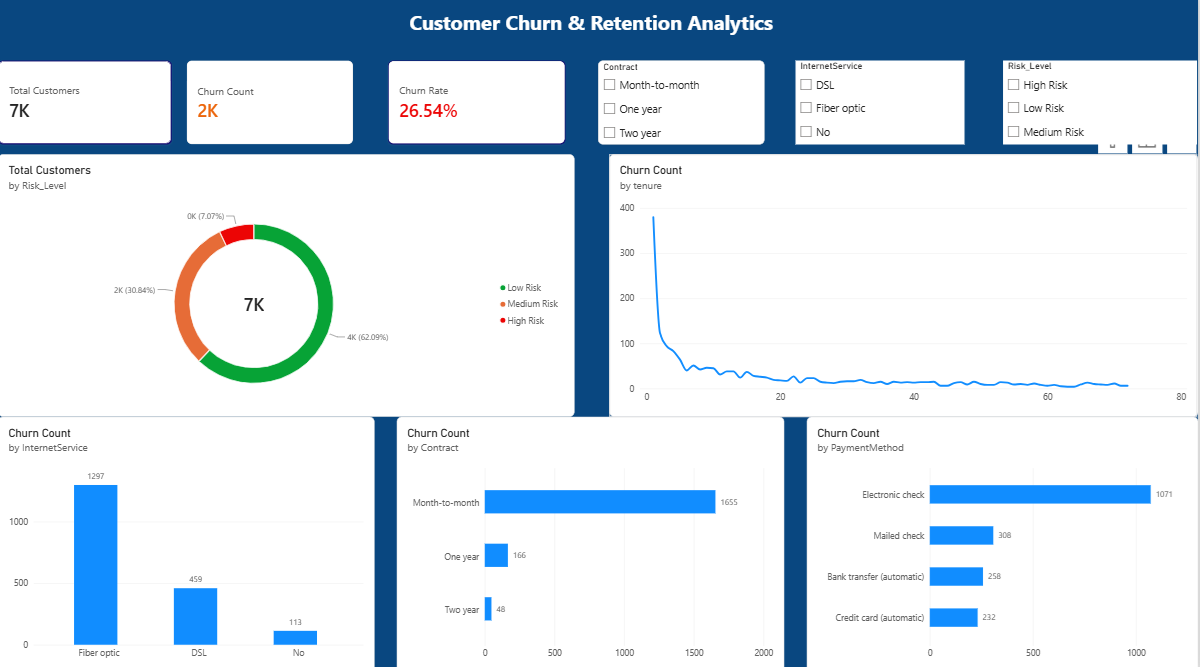

The dashboard page shown, as its layout file describes it:
{"tool":"powerbi","page":{"name":"Page 1","canvas":[1920,1080],"ordinal":0},"visuals":[{"type":"cardVisual","fields":{"Data":["telco_churn_powerbi_ready.Total Customers"]},"box":[0,100,278,134],"z":0},{"type":"cardVisual","fields":{"Data":["telco_churn_powerbi_ready.Churn Count"]},"box":[302,100,266,134],"z":1},{"type":"cardVisual","fields":{"Data":["telco_churn_powerbi_ready.Churn Rate"]},"box":[624,100,284,134],"z":2},{"type":"donutChart","fields":{"Category":["telco_churn_powerbi_ready.Risk_Level"],"Y":["telco_churn_powerbi_ready.Total Customers"]},"box":[0,250,922,420],"z":3},{"type":"clusteredBarChart","fields":{"Category":["telco_churn_powerbi_ready.Contract"],"Y":["telco_churn_powerbi_ready.Churn Count"]},"box":[638,670,620,410],"z":4},{"type":"clusteredColumnChart","fields":{"Category":["telco_churn_powerbi_ready.InternetService"],"Y":["telco_churn_powerbi_ready.Churn Count"]},"box":[0,670,602,410],"z":5},{"type":"lineChart","fields":{"Category":["telco_churn_powerbi_ready.tenure"],"Y":["telco_churn_powerbi_ready.Churn Count"]},"box":[978,250,942,420],"z":6},{"type":"clusteredBarChart","fields":{"Category":["telco_churn_powerbi_ready.PaymentMethod"],"Y":["telco_churn_powerbi_ready.Churn Count"]},"box":[1294,670,626,410],"z":7},{"type":"slicer","fields":{"Values":["telco_churn_powerbi_ready.Contract"]},"box":[960,100,266,134],"z":8},{"type":"slicer","fields":{"Values":["telco_churn_powerbi_ready.InternetService"]},"box":[1276,100,270,134],"z":9},{"type":"slicer","fields":{"Values":["telco_churn_powerbi_ready.Risk_Level"]},"box":[1608,100,310,134],"z":10},{"type":"textbox","box":[100,16,1698,68],"z":11}]}

Visuals, with their boxes in screenshot pixels (x1, y1, x2, y2), scaled from the page's 1920x1080 canvas onto the 1200x667 screenshot:
cardVisual - telco_churn_powerbi_ready.Total Customers: (x1=0, y1=62, x2=174, y2=145)
cardVisual - telco_churn_powerbi_ready.Churn Count: (x1=189, y1=62, x2=355, y2=145)
cardVisual - telco_churn_powerbi_ready.Churn Rate: (x1=390, y1=62, x2=568, y2=145)
donutChart - telco_churn_powerbi_ready.Risk_Level x telco_churn_powerbi_ready.Total Customers: (x1=0, y1=154, x2=576, y2=414)
clusteredBarChart - telco_churn_powerbi_ready.Contract x telco_churn_powerbi_ready.Churn Count: (x1=399, y1=414, x2=786, y2=666)
clusteredColumnChart - telco_churn_powerbi_ready.InternetService x telco_churn_powerbi_ready.Churn Count: (x1=0, y1=414, x2=376, y2=666)
lineChart - telco_churn_powerbi_ready.tenure x telco_churn_powerbi_ready.Churn Count: (x1=611, y1=154, x2=1199, y2=414)
clusteredBarChart - telco_churn_powerbi_ready.PaymentMethod x telco_churn_powerbi_ready.Churn Count: (x1=809, y1=414, x2=1199, y2=666)
slicer - telco_churn_powerbi_ready.Contract: (x1=600, y1=62, x2=766, y2=145)
slicer - telco_churn_powerbi_ready.InternetService: (x1=798, y1=62, x2=966, y2=145)
slicer - telco_churn_powerbi_ready.Risk_Level: (x1=1005, y1=62, x2=1199, y2=145)
textbox: (x1=62, y1=10, x2=1124, y2=52)
